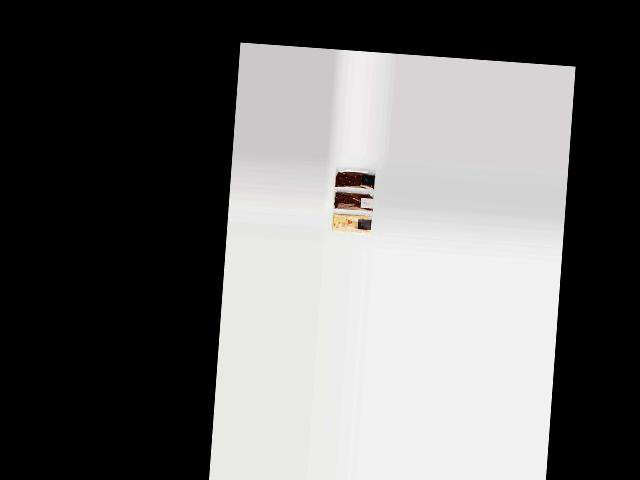chocolate: (330, 164, 375, 191)
